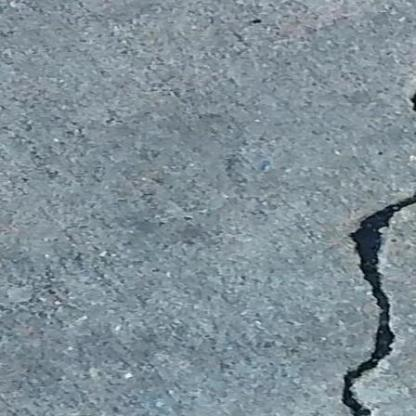Cracks: (333, 189, 416, 416), (404, 83, 416, 119)
